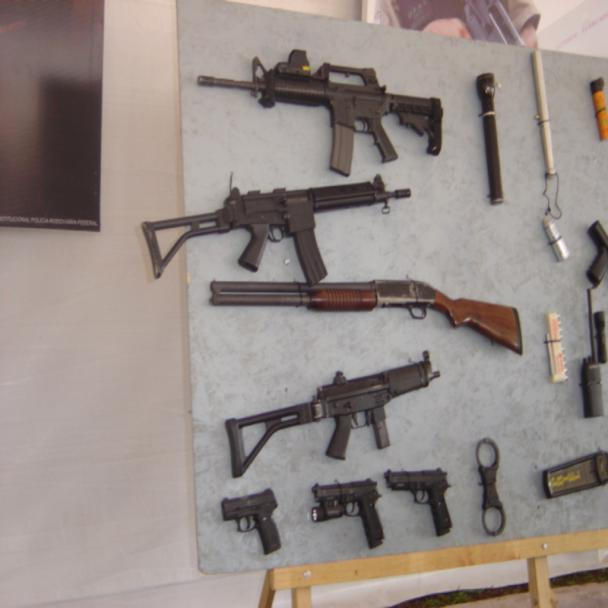Gun: (180, 29, 449, 160), (200, 347, 464, 476), (206, 262, 532, 362), (132, 169, 420, 274), (380, 458, 463, 542), (310, 475, 394, 552), (216, 482, 292, 563)
